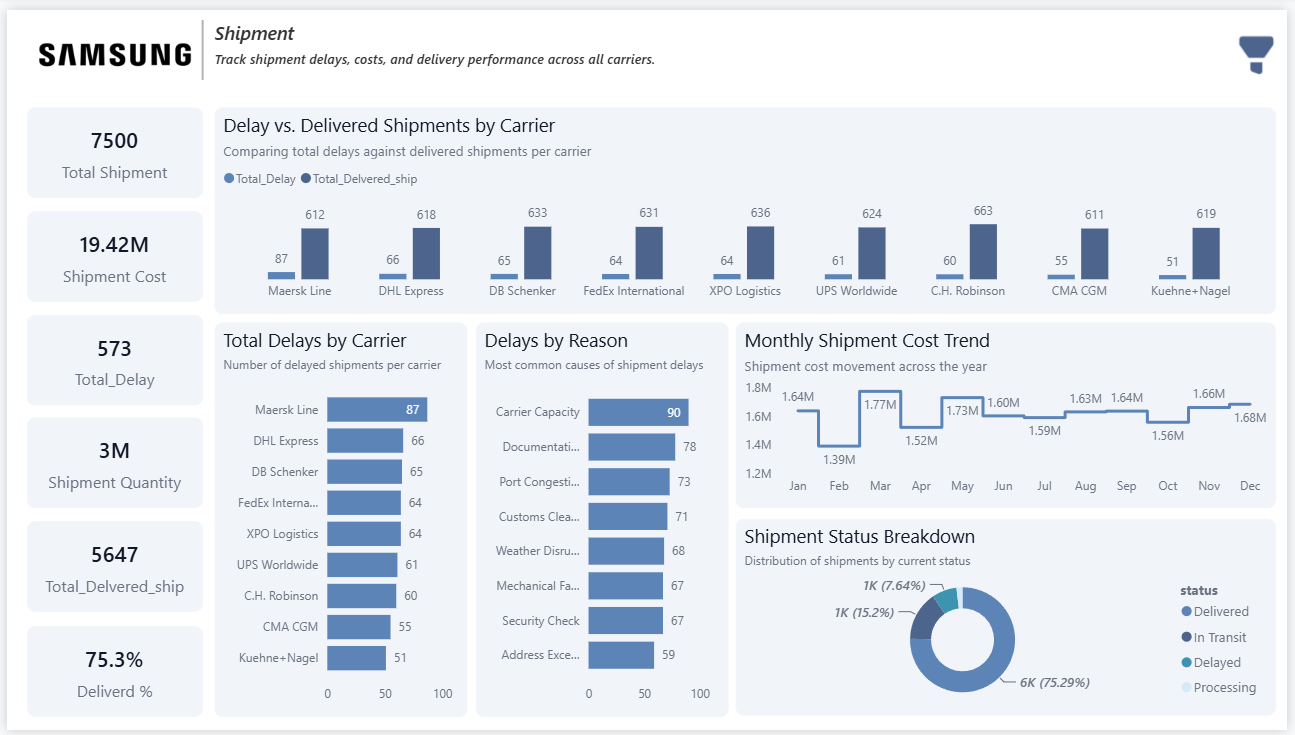

The page's visual inventory and layout, read from the dashboard file:
{"tool":"powerbi","page":{"name":"Shipment","canvas":[1280,720],"ordinal":4},"visuals":[{"type":"shape","title":"Shipment","box":[207.5,9.7,457.2,61.5],"z":0},{"type":"shape","box":[171.2,10,48.8,60],"z":1000},{"type":"image","box":[20,8.8,168.8,71.2],"z":2000},{"type":"card","fields":{"Values":["Measure Table.Toltal_Shipment_Quantity"]},"box":[20,408,176,90],"z":3000},{"type":"card","fields":{"Values":["Measure Table.Total_Delvered_ship"]},"box":[20,511.5,176,90],"z":4000},{"type":"card","fields":{"Values":["Measure Table.Deliverd %"]},"box":[20,616.3,176,90],"z":5000},{"type":"card","fields":{"Values":["Measure Table.Total_Delay"]},"box":[20,304.5,176,90],"z":6000},{"type":"card","fields":{"Values":["Measure Table.Shipment_Cost"]},"box":[20,201,176,90],"z":7000},{"type":"card","fields":{"Values":["Measure Table.Total_shipment"]},"box":[20,97.5,176,90],"z":8000},{"type":"clusteredBarChart","title":"Total Delays by Carrier","fields":{"Category":["fact_shipment.carrier"],"Y":["Measure Table.Total_Delay"]},"box":[207.3,312.2,252.9,394.2],"z":9000},{"type":"clusteredColumnChart","title":"Delay vs. Delivered Shipments by Carrier","fields":{"Y":["Measure Table.Total_Delay","Measure Table.Total_Delvered_ship"],"Category":["fact_shipment.carrier"]},"box":[207.3,98,1061.8,206.2],"z":10000},{"type":"lineChart","title":"Monthly Shipment Cost Trend","fields":{"Category":["dim_date.Month_short"],"Y":["Measure Table.Shipment_Cost"]},"box":[729.1,312.2,540,185.7],"z":11000},{"type":"clusteredBarChart","title":"Delays by Reason","fields":{"Category":["fact_shipment.delay_reason"],"Y":["Measure Table.Total_Delay"]},"box":[468.2,312.2,252.9,394.2],"z":12000},{"type":"donutChart","title":"Shipment Status Breakdown","fields":{"Category":["fact_shipment.status"],"Y":["Measure Table.Total_shipment"]},"box":[729.1,509.2,540,197.1],"z":13000},{"type":"actionButton","title":"Button-open","box":[1218.8,8.8,61.2,71.2],"z":14000}]}

Visuals, with their boxes in screenshot pixels (x1, y1, x2, y2), scaled from the page's 1280x720 canvas onto the 1295x735 screenshot:
"Shipment" shape: [x1=210, y1=10, x2=672, y2=73]
shape: [x1=173, y1=10, x2=223, y2=71]
image: [x1=20, y1=9, x2=191, y2=82]
card - Measure Table.Toltal_Shipment_Quantity: [x1=20, y1=416, x2=198, y2=508]
card - Measure Table.Total_Delvered_ship: [x1=20, y1=522, x2=198, y2=614]
card - Measure Table.Deliverd %: [x1=20, y1=629, x2=198, y2=721]
card - Measure Table.Total_Delay: [x1=20, y1=311, x2=198, y2=403]
card - Measure Table.Shipment_Cost: [x1=20, y1=205, x2=198, y2=297]
card - Measure Table.Total_shipment: [x1=20, y1=100, x2=198, y2=191]
"Total Delays by Carrier" clusteredBarChart: [x1=210, y1=319, x2=466, y2=721]
"Delay vs. Delivered Shipments by Carrier" clusteredColumnChart: [x1=210, y1=100, x2=1284, y2=311]
"Monthly Shipment Cost Trend" lineChart: [x1=738, y1=319, x2=1284, y2=508]
"Delays by Reason" clusteredBarChart: [x1=474, y1=319, x2=730, y2=721]
"Shipment Status Breakdown" donutChart: [x1=738, y1=520, x2=1284, y2=721]
"Button-open" actionButton: [x1=1233, y1=9, x2=1294, y2=82]
